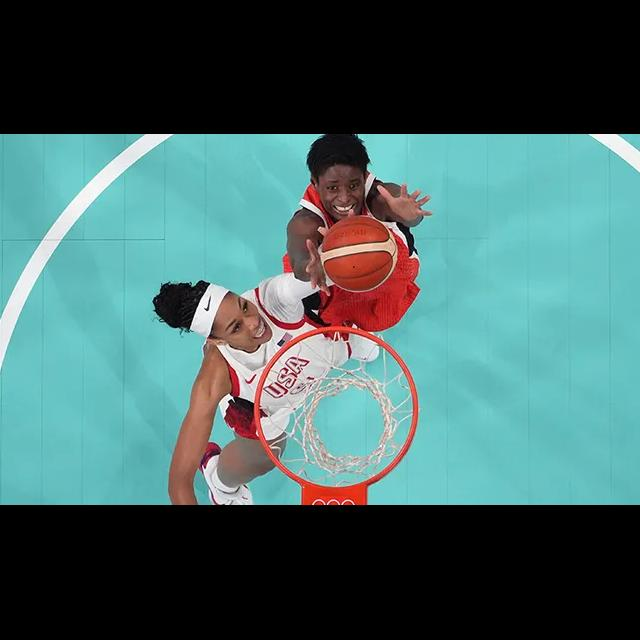basketball: (318, 224, 397, 294)
hoop: (257, 328, 424, 503)
